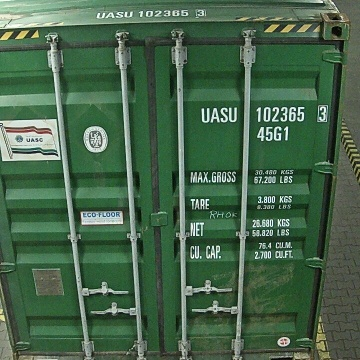serial_id: (199, 107, 327, 123)
